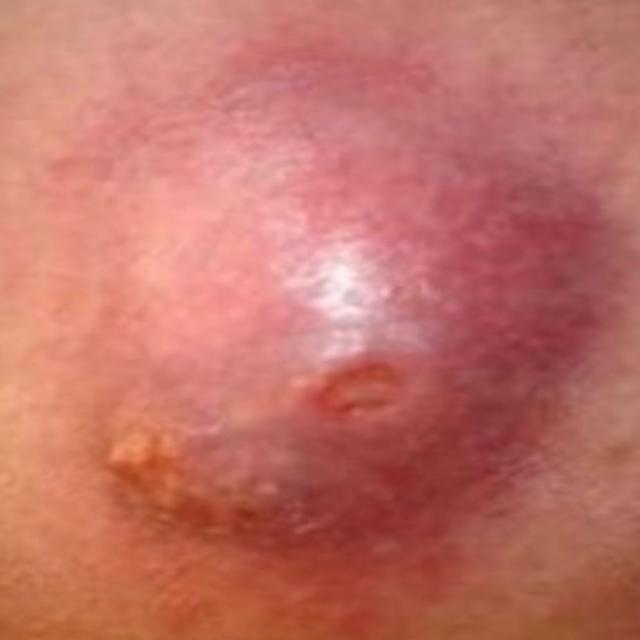nodule: (32, 67, 620, 588)
